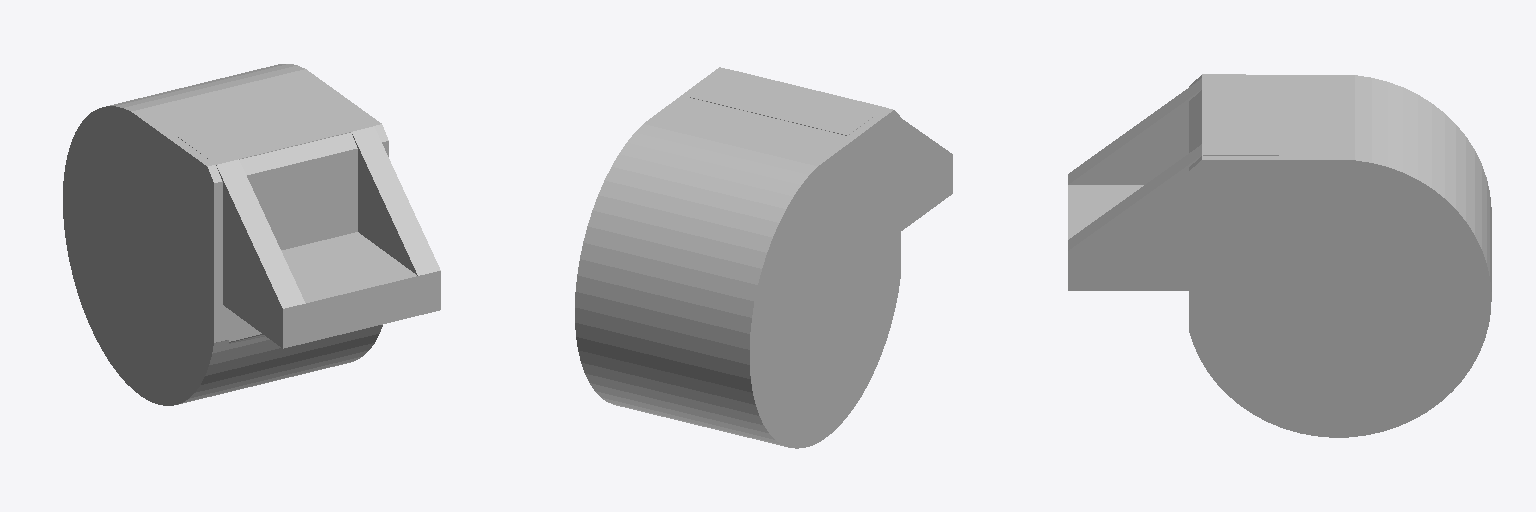
The model's file is dist_hand_mount.obj.
The picture shows the model from 3 angles: view 1: azimuth 30°, elevation 25°; view 2: azimuth 150°, elevation 25°; view 3: azimuth 270°, elevation 25°; orthographic projection.
Visible parts, largest first — view 1: Cube; view 2: Cube; view 3: Cube.
Part boxes in pixels (bbox=[...]): Cube: bbox=[63, 64, 440, 405]; Cube: bbox=[575, 67, 952, 448]; Cube: bbox=[1068, 74, 1491, 437].
Size of the model in its own units: 0.023 by 0.035 by 0.0483.